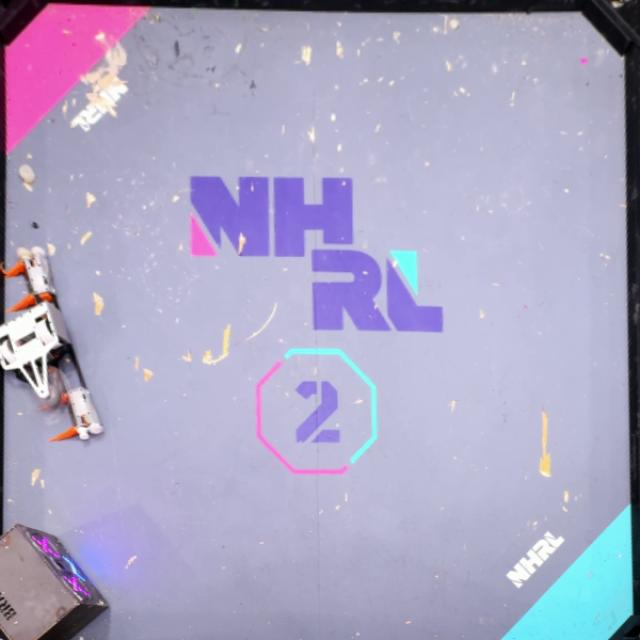housebot: (0, 521, 110, 640)
robot: (0, 245, 102, 439), (0, 298, 70, 408)
